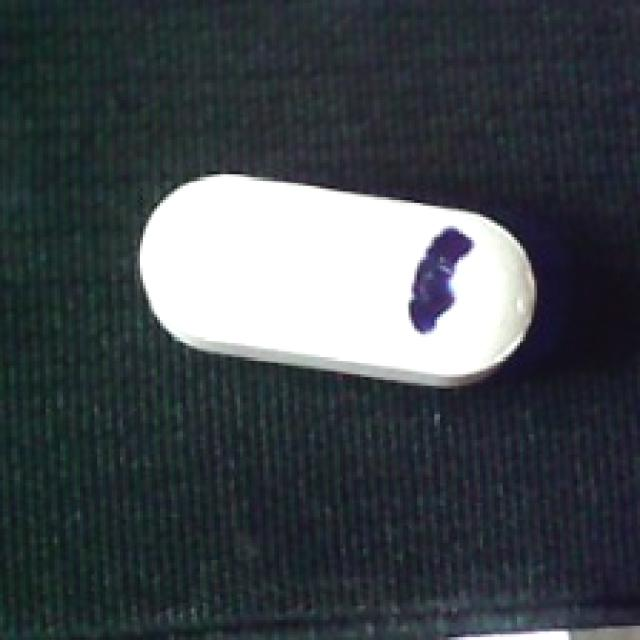defected: (134, 174, 549, 386)
